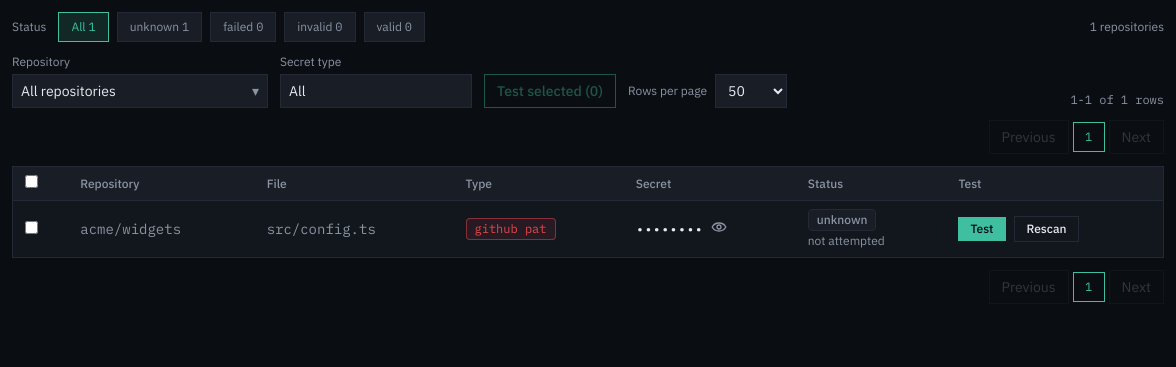
TestingPanel (regular user, scoped to own approved repos) › tests only the checked findings via "Test selected"
Step 1. Click the button named "Repository" → (140, 91), box [12, 74, 268, 108]
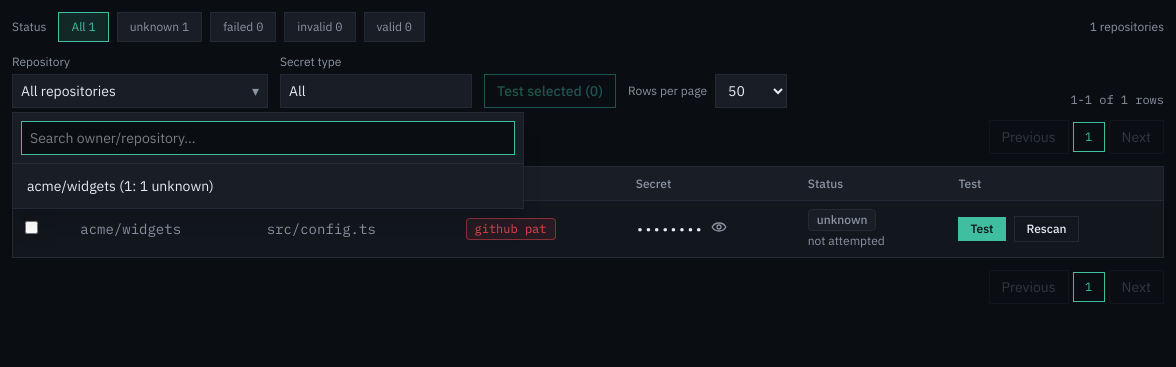
Step 2. Click the option "acme/widgets (1: 1 unknown)" → (120, 186), box [17, 168, 519, 204]
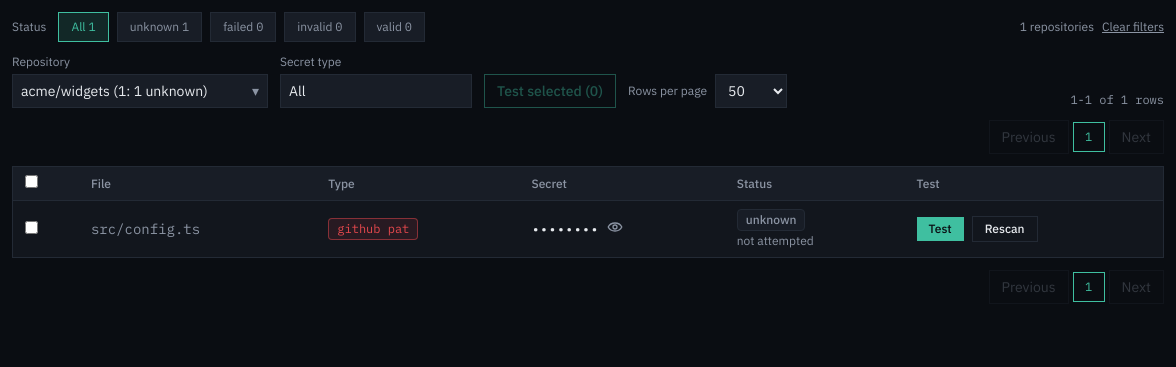
Check: the text "src/config.ts" is shown, box [79, 200, 316, 257]
Check: the button "Test selected (0)" is disabled, box [484, 74, 616, 108]
Step 3. Click the checkbox named "Select github_pat in src/config.ts" → (32, 228), box [25, 221, 38, 234]
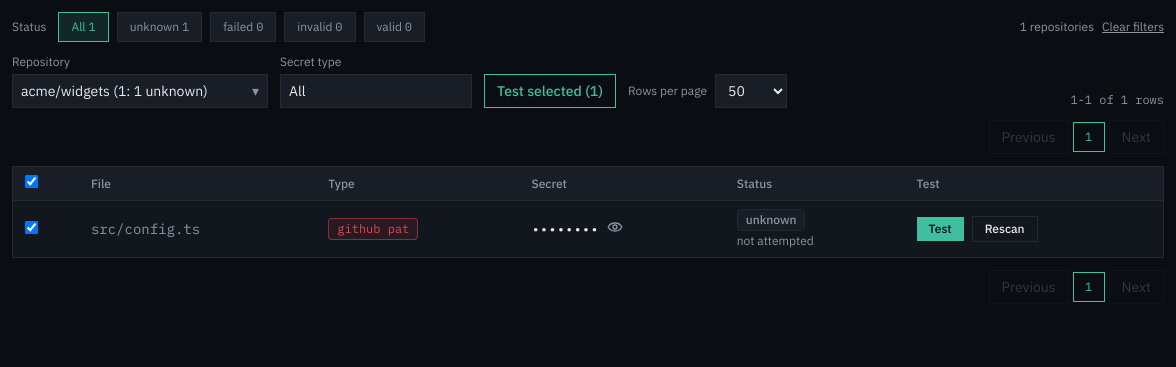
Check: the button "Test selected (1)" is enabled
Step 4. Click the button "Test selected (1)" → (550, 91), box [484, 74, 616, 108]
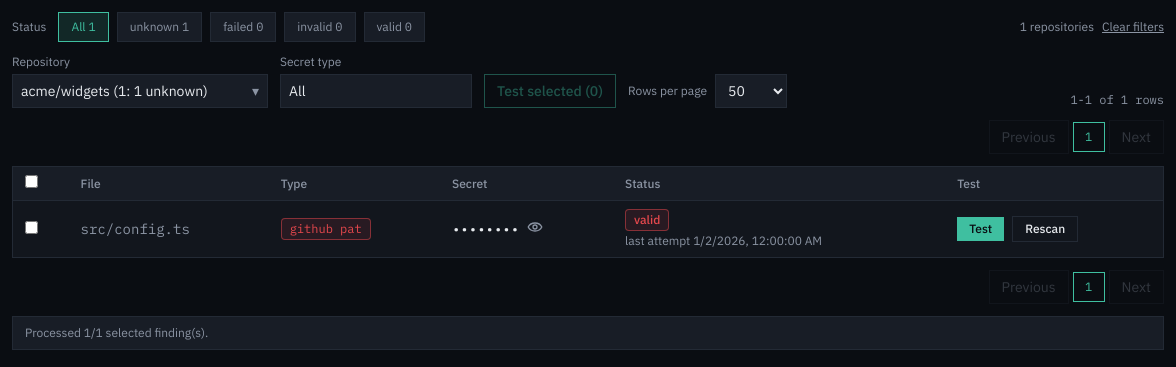
Check: the text "Processed 1/1 selected finding(s)." is shown, box [12, 316, 1164, 350]
